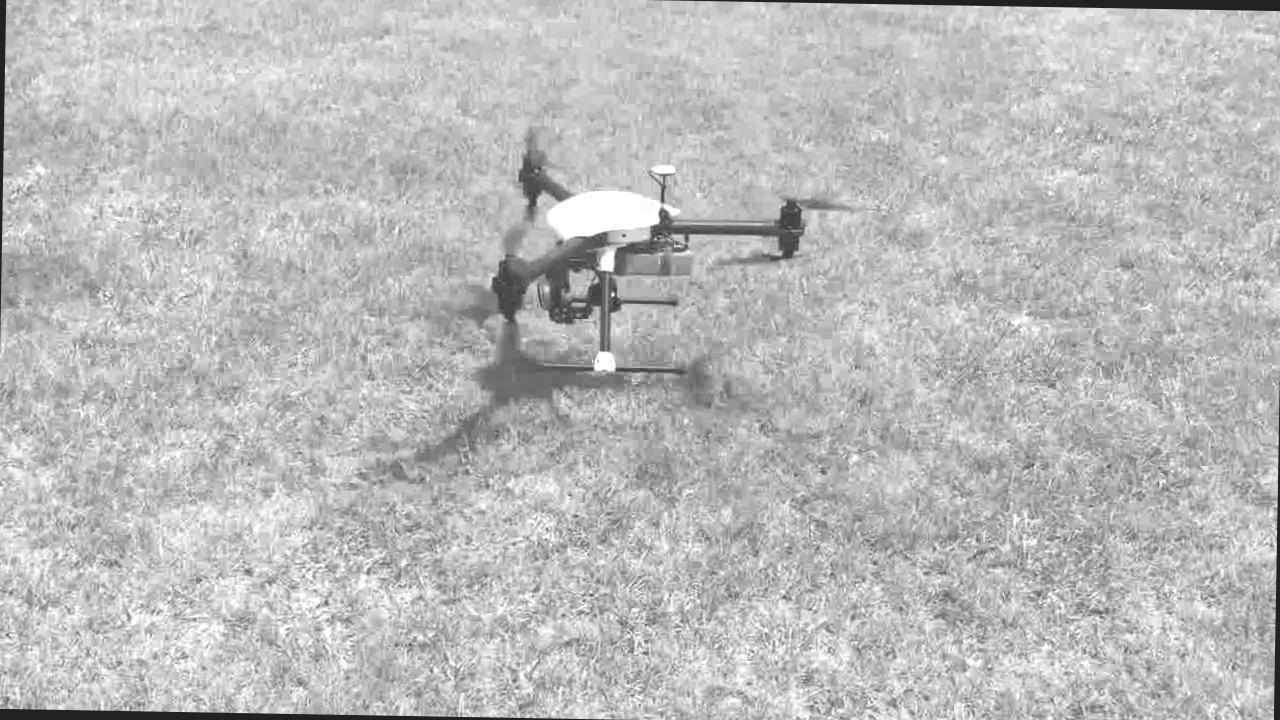drone: (493, 126, 864, 376)
